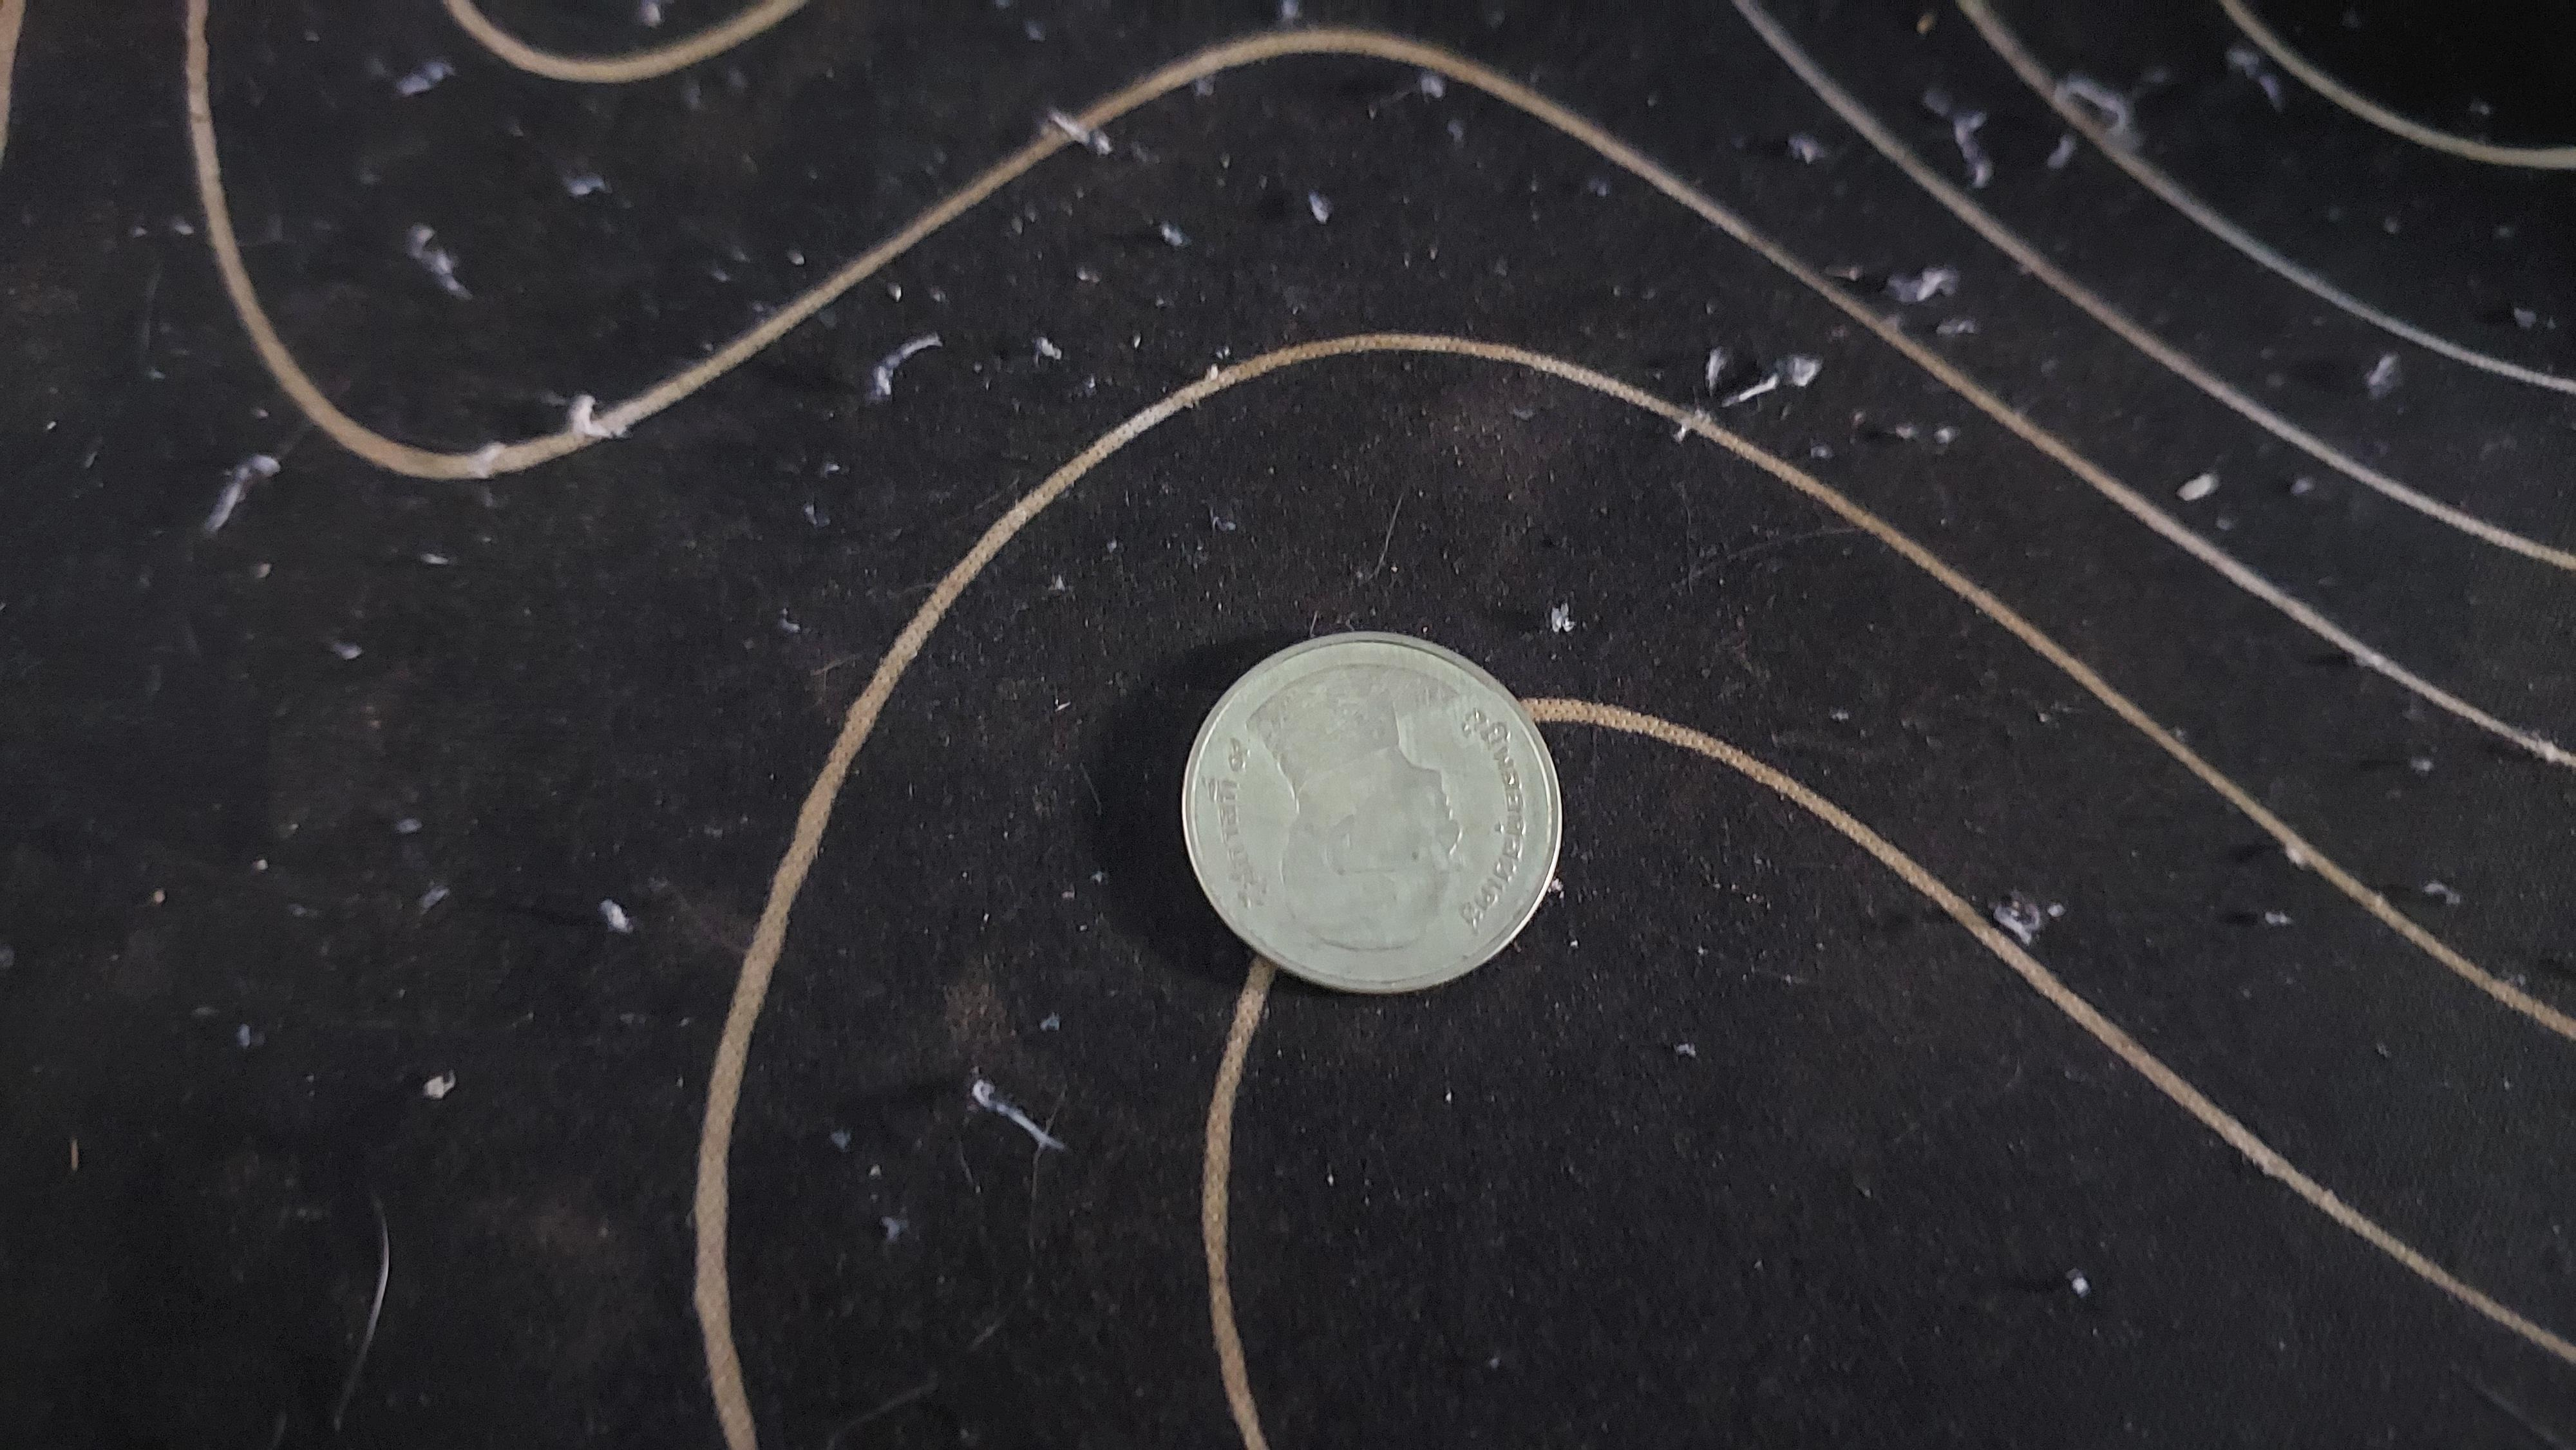5baht: (1146, 619, 1628, 1026)
